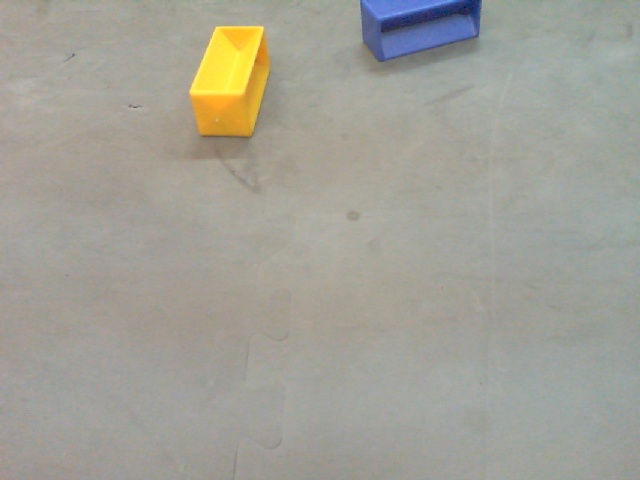BlueSample: (361, 1, 483, 65)
YellowSample: (188, 25, 272, 143)
